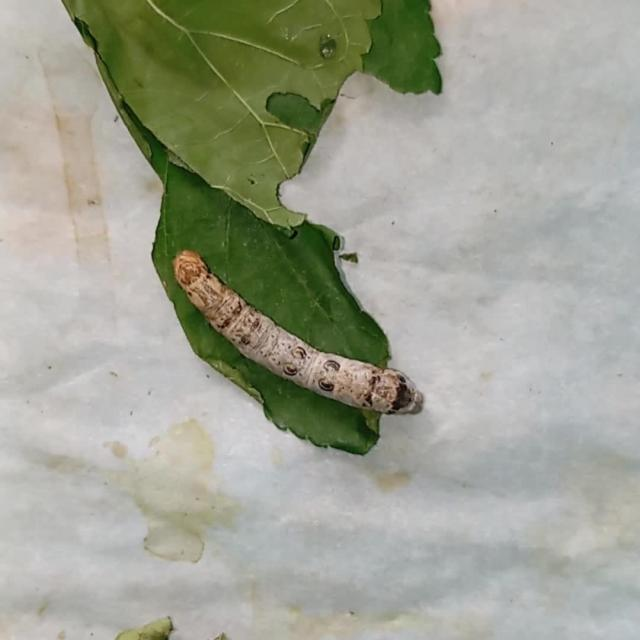Grasserie: (156, 231, 459, 443)
